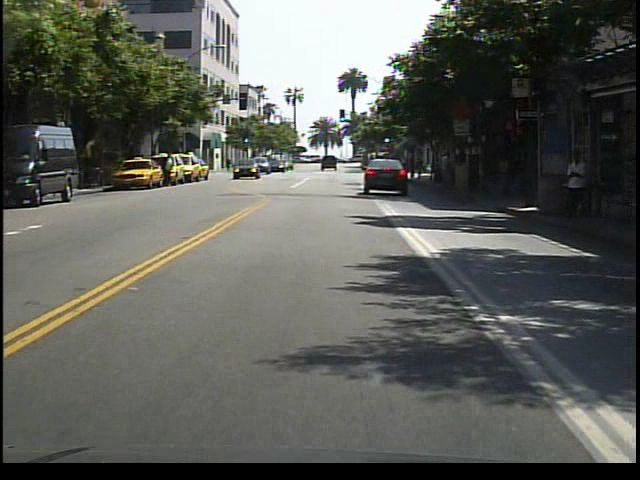person: (559, 146, 594, 227), (161, 152, 178, 190)
